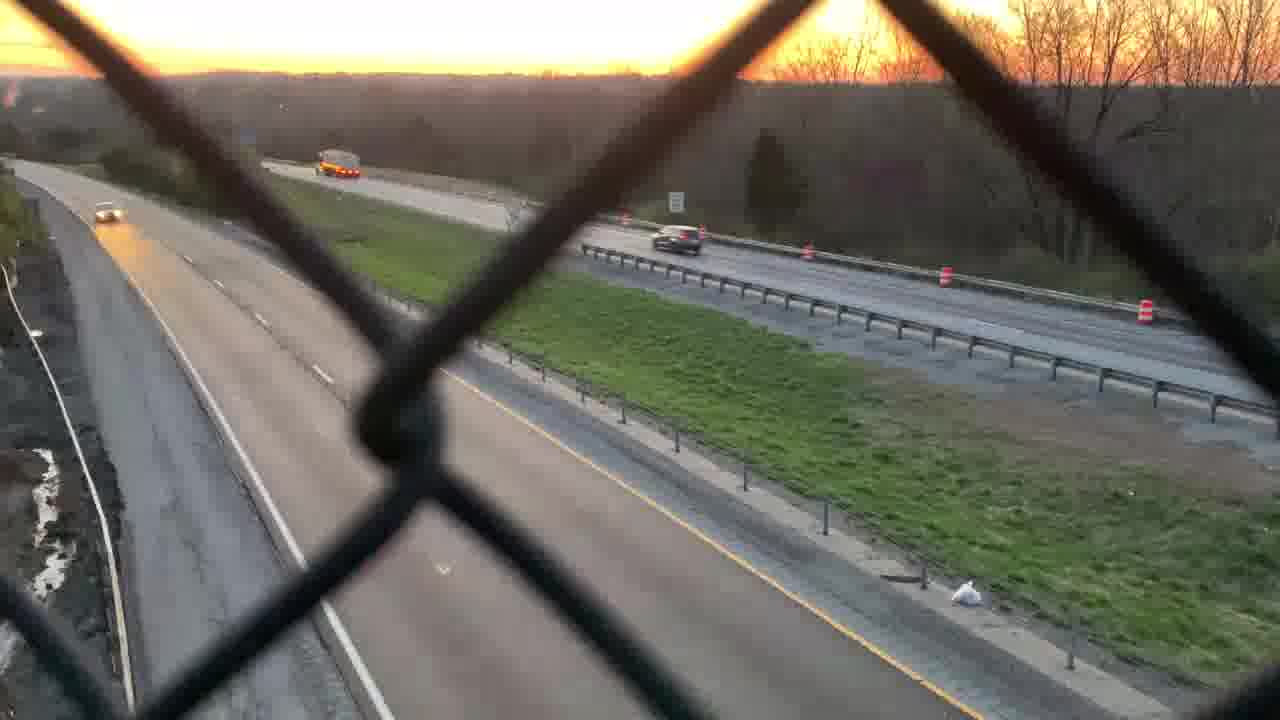heavyTruck: (314, 145, 366, 184)
largeCar: (647, 221, 703, 257)
smallCar: (91, 201, 126, 223)
